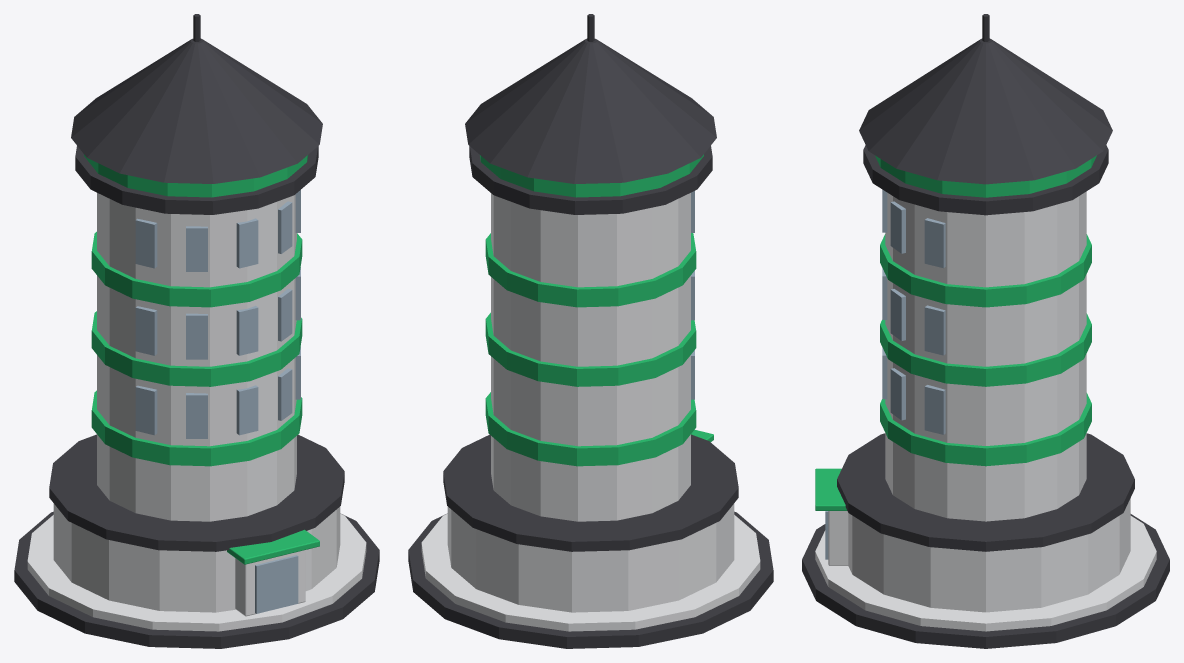
File: pillar.glb
3 renders of one model, left to right at view 1: azimuth 30°, elevation 25°; view 2: azimuth 150°, elevation 25°; view 3: azimuth 270°, elevation 25°, orthographic.
Visible parts, largest first — view 1: pillar; view 2: pillar; view 3: pillar.
Boxes of the visible parts, <box> form: pillar: <box>14,14,379,648</box>; pillar: <box>408,14,773,648</box>; pillar: <box>802,14,1169,648</box>.
Bounding box in the file's own units: 8.4 × 14.01 × 8.4.
